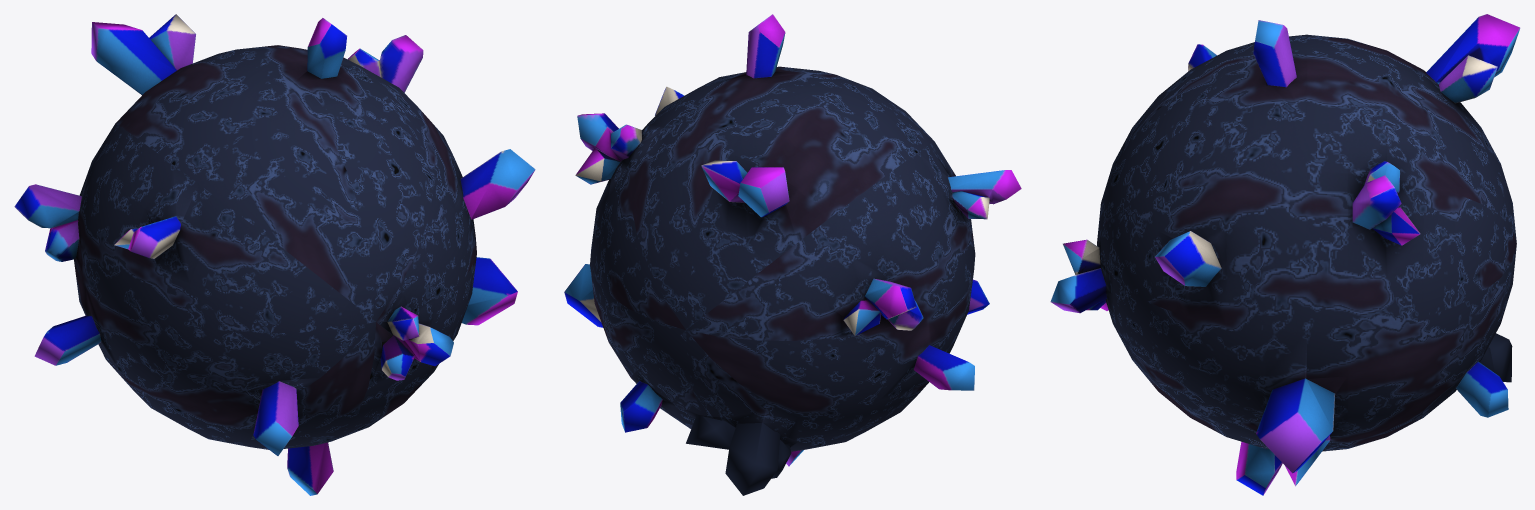
File: Planet_08.fbx
3 views of the same model, side by side, from view 1: azimuth 30°, elevation 25°; view 2: azimuth 150°, elevation 25°; view 3: azimuth 270°, elevation 25° (orthographic). The views are drawn at different scales.
Visible parts, largest first — view 1: Planet_08; view 2: Planet_08; view 3: Planet_08.
Part boxes in pixels (box(x1,y1,x2,y2)): Planet_08: box(14, 14, 535, 495); Planet_08: box(564, 14, 1021, 495); Planet_08: box(1050, 14, 1520, 495).
Size of the model in its own units: 1520 by 1501 by 1317.
